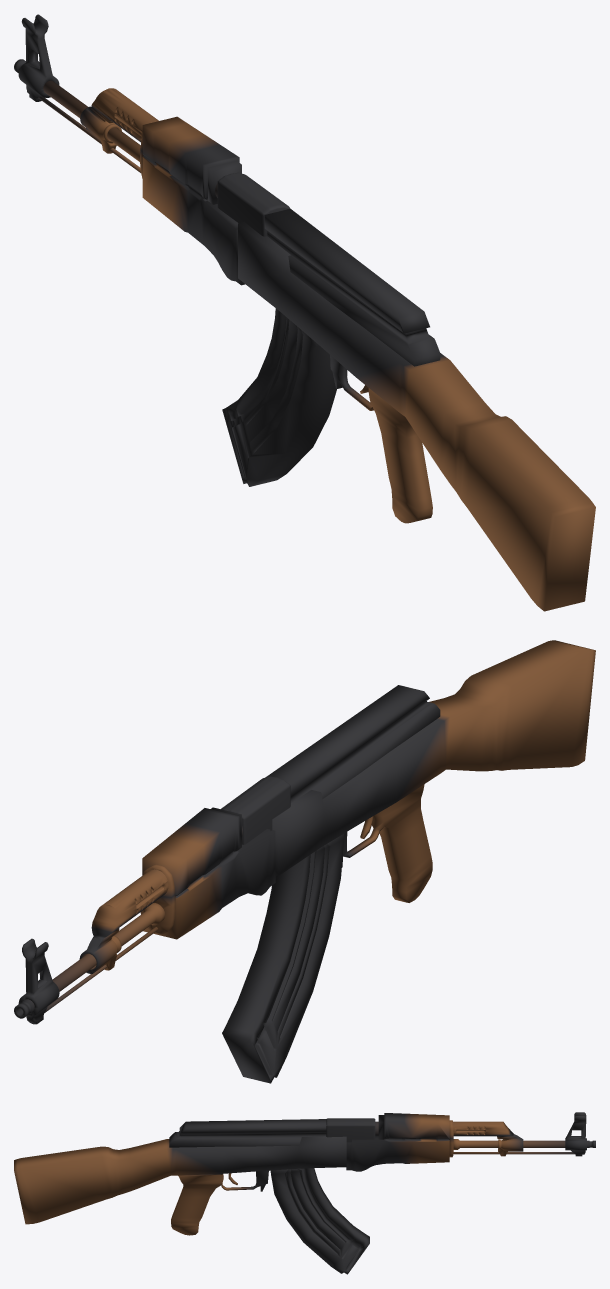
3 views of the same model, one above another, from view 1: azimuth 30°, elevation 25°; view 2: azimuth 150°, elevation 25°; view 3: azimuth 270°, elevation 25° (orthographic). The views are drawn at different scales.
Parts seen in each view (by area): view 1: AK47; view 2: AK47; view 3: AK47.
Boxes of the visible parts, x1,y1,x2,y2 form: AK47: [14, 14, 595, 611]; AK47: [14, 640, 595, 1083]; AK47: [14, 1112, 595, 1274].
Bounding box in the file's own units: 0.0375 × 0.2624 × 0.8831.
